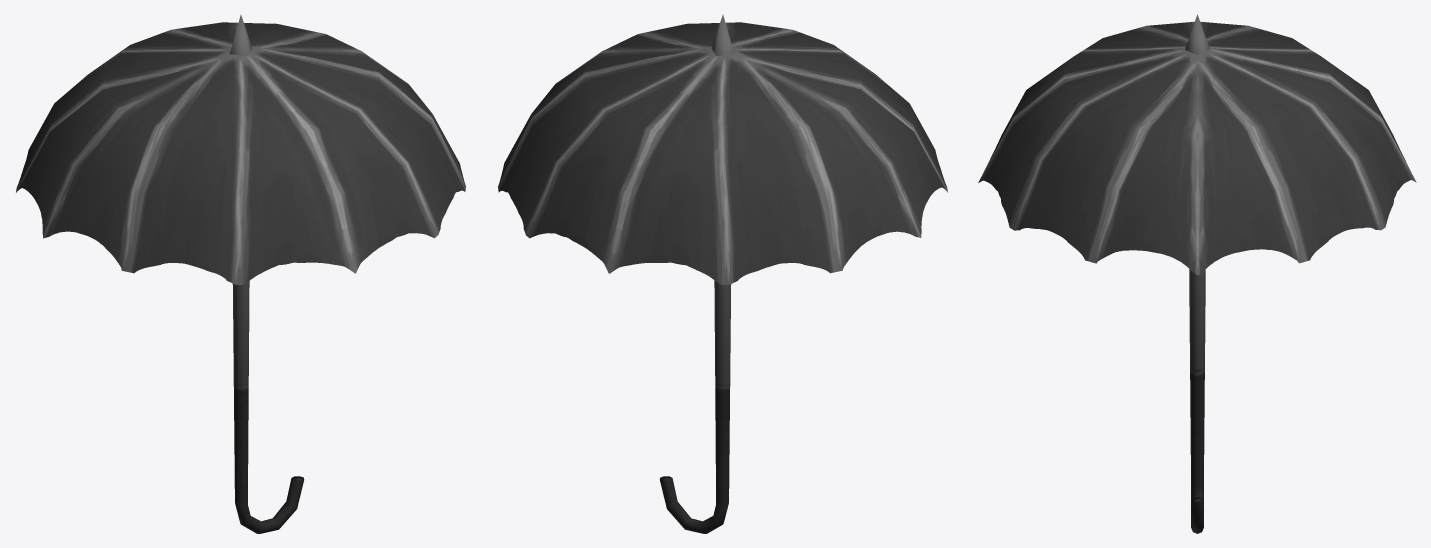
File: Umbrella.obj
The picture shows the model from 3 angles, left to right: view 1: azimuth 30°, elevation 25°; view 2: azimuth 150°, elevation 25°; view 3: azimuth 270°, elevation 25°; orthographic projection. The views are drawn at different scales.
Parts seen in each view (by area): view 1: pCylinder1, pCylinder2; view 2: pCylinder1, pCylinder2; view 3: pCylinder1, pCylinder2.
Part boxes in pixels (left/top/right/bottom): pCylinder1: left=16, top=15, right=465, bottom=284; pCylinder2: left=232, top=281, right=304, bottom=533; pCylinder1: left=498, top=15, right=947, bottom=284; pCylinder2: left=659, top=280, right=731, bottom=533; pCylinder1: left=978, top=14, right=1416, bottom=275; pCylinder2: left=1189, top=269, right=1205, bottom=533.
Bounding box in the file's own units: 3.47 × 4.39 × 3.47.
